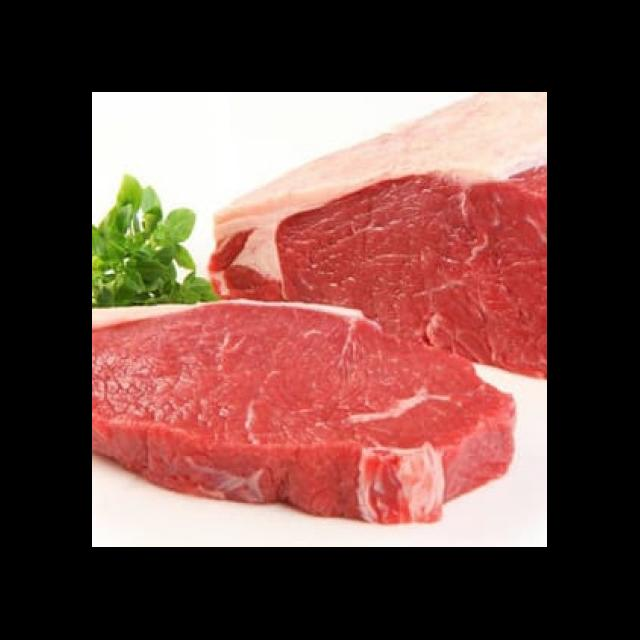beef: (94, 294, 520, 531), (205, 94, 548, 386)
